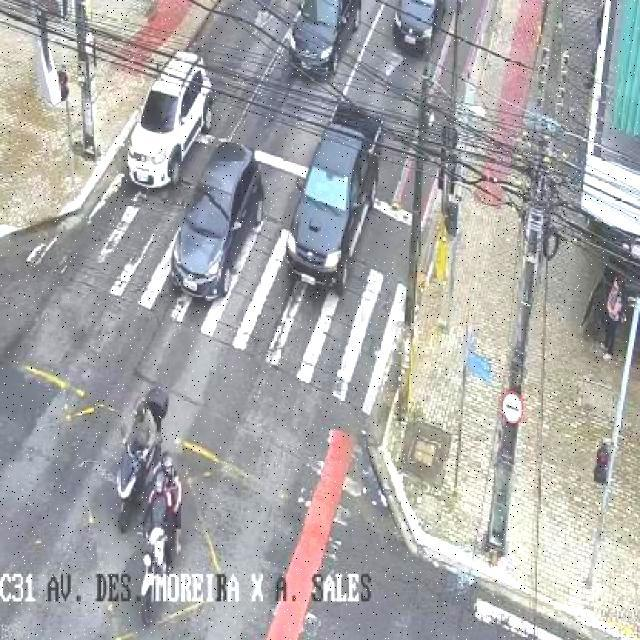Car: (167, 142, 267, 299), (123, 52, 218, 191), (284, 0, 365, 75), (391, 0, 449, 57)
Cycle: (133, 518, 182, 624), (113, 434, 164, 529)
Truck: (283, 103, 387, 292)
